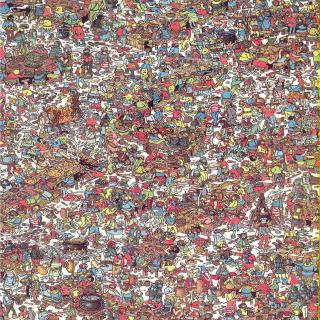Waldo: (211, 94, 221, 105)
